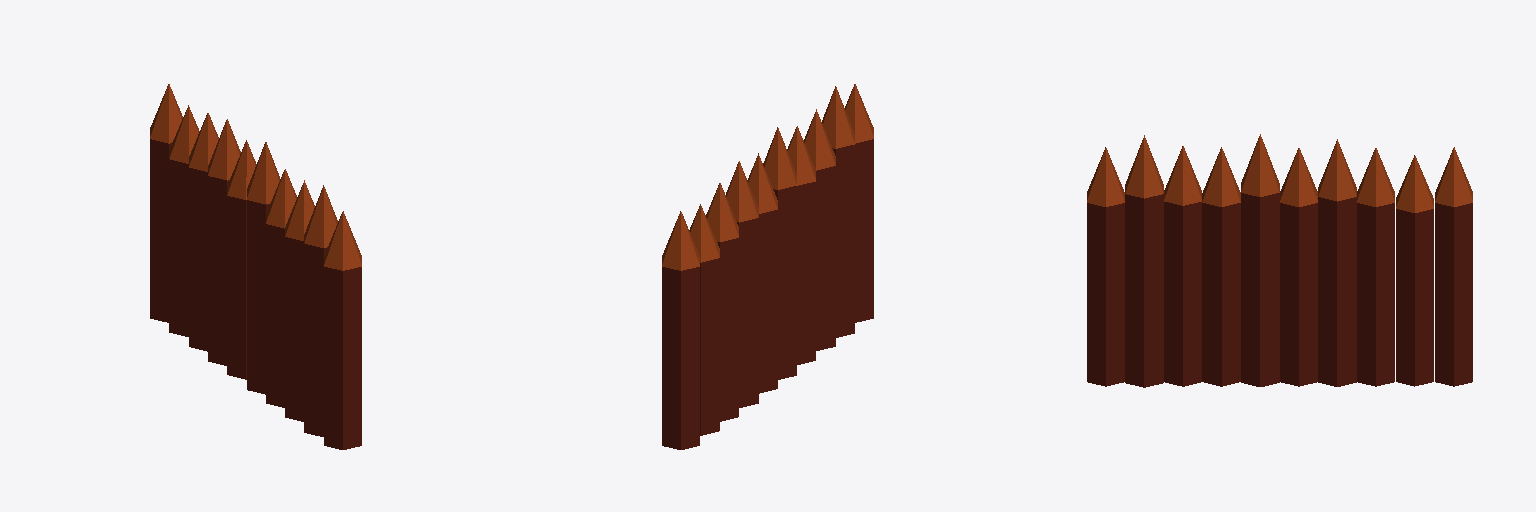
Rendered from Fence_B.obj.
3 renders of one model, left to right at view 1: azimuth 30°, elevation 25°; view 2: azimuth 150°, elevation 25°; view 3: azimuth 270°, elevation 25°, orthographic.
Parts seen in each view (by area): view 1: Fence_B; view 2: Fence_B; view 3: Fence_B.
Boxes of the visible parts, box(x1,y1,x2,y2) form: Fence_B: box(150, 84, 361, 449); Fence_B: box(662, 84, 873, 449); Fence_B: box(1087, 134, 1472, 387).
Size of the model in its own units: 0.5106 by 3.1 by 4.43.